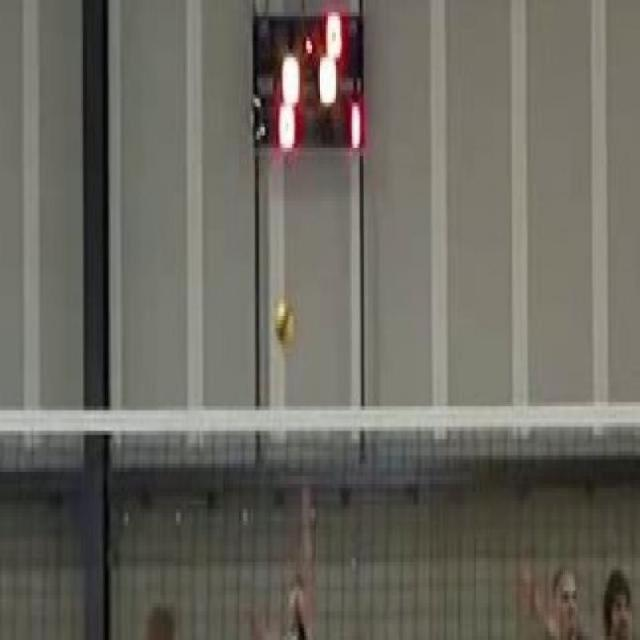volleyball: (272, 291, 300, 355)
